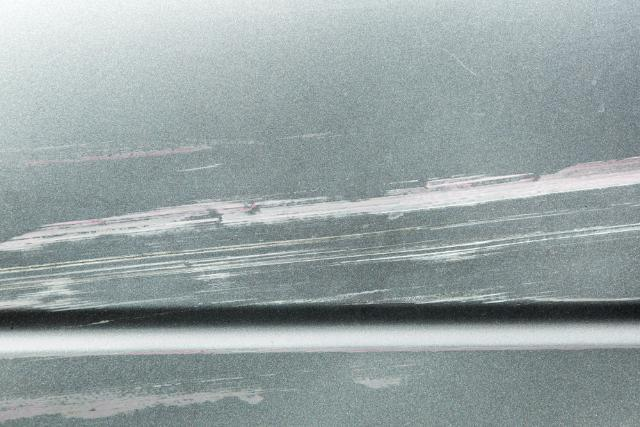Door: (0, 120, 640, 425)
